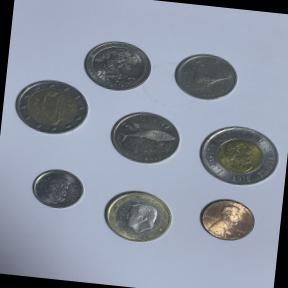coin: (190, 116, 288, 197), (102, 101, 188, 174), (8, 74, 94, 144), (96, 184, 181, 250), (78, 35, 156, 95), (192, 191, 261, 246), (26, 162, 88, 214)
